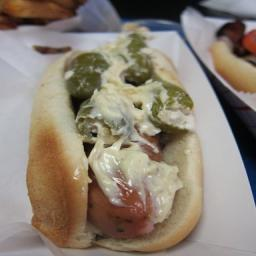hotdog: (90, 142, 157, 242)
